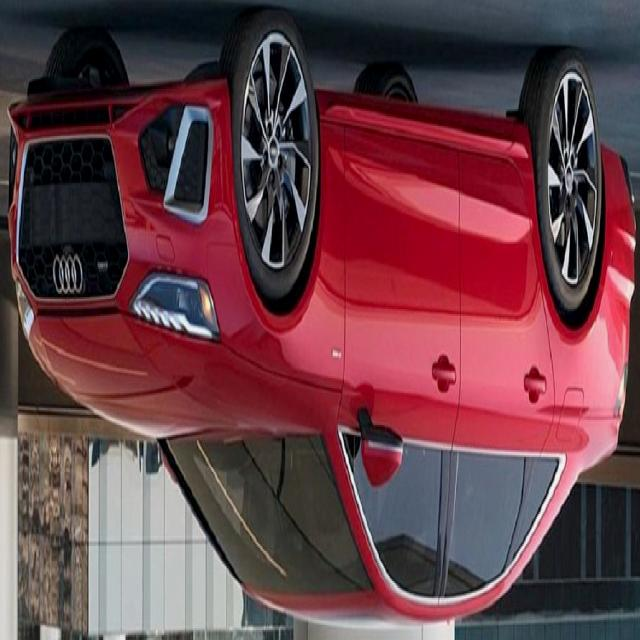red: (0, 81, 640, 618)
